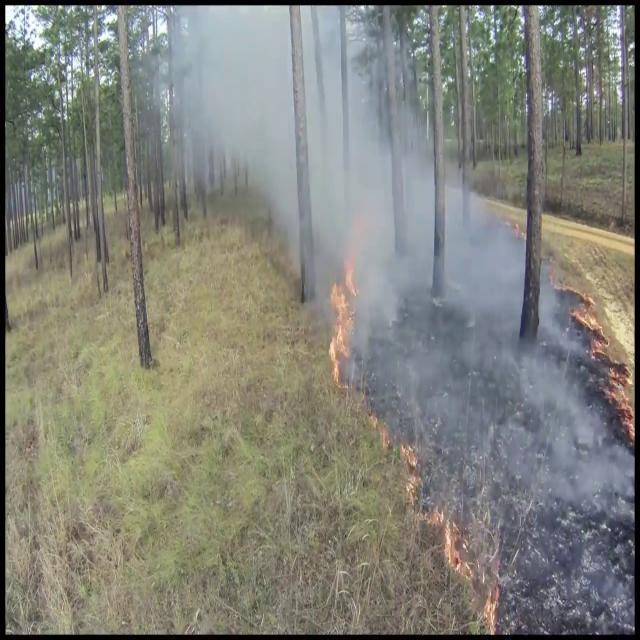Fire: (435, 480, 502, 632), (318, 247, 357, 384)
Smoke: (383, 132, 630, 573), (160, 0, 394, 236)
